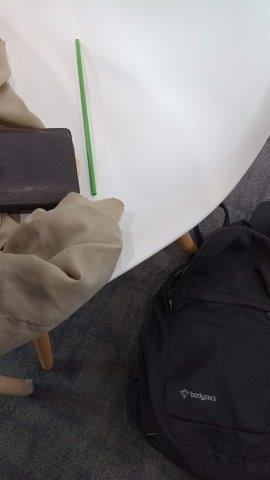sedotan: (75, 39, 96, 194)
